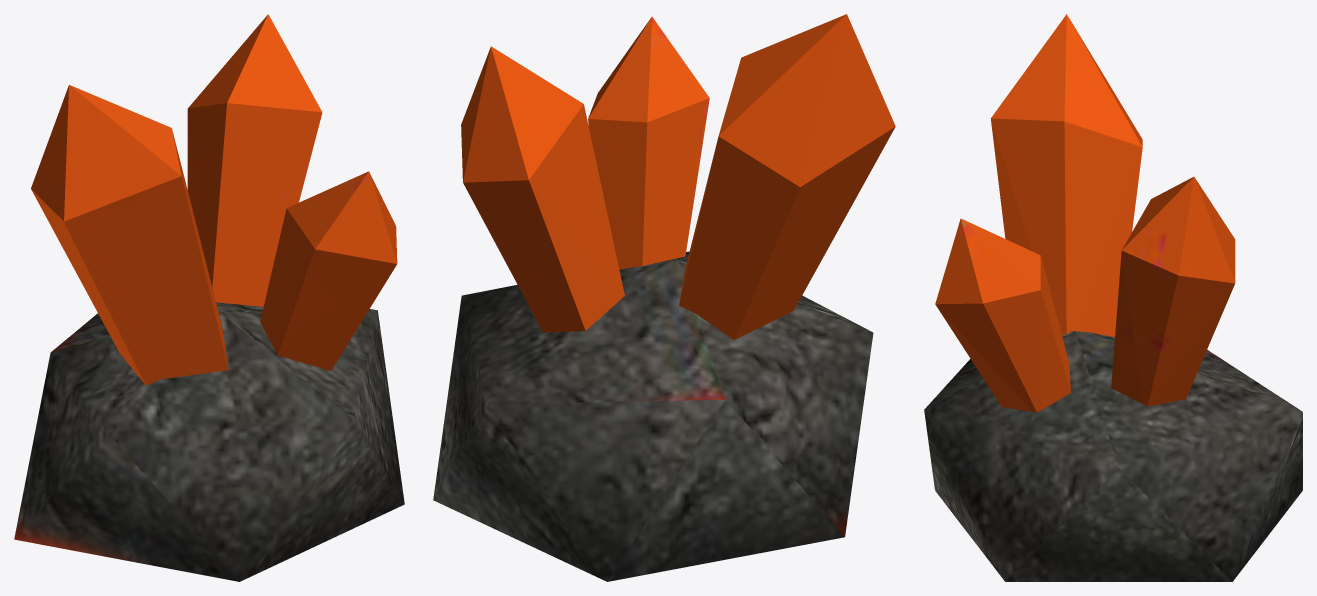
Rendered from OrangeCrystal.fbx.
3 views of the same model, side by side, from view 1: azimuth 30°, elevation 25°; view 2: azimuth 150°, elevation 25°; view 3: azimuth 270°, elevation 25° (orthographic). The views are drawn at different scales.
Visible parts, largest first — view 1: Crystal; view 2: Crystal; view 3: Crystal.
Part boxes in pixels (x1,y1,x2,y2): Crystal: (14, 14, 404, 581); Crystal: (433, 14, 895, 581); Crystal: (924, 14, 1302, 581).
Size of the model in its own units: 0.1484 by 0.2061 by 0.1453.
Materials: 1 (1 with a texture image).
